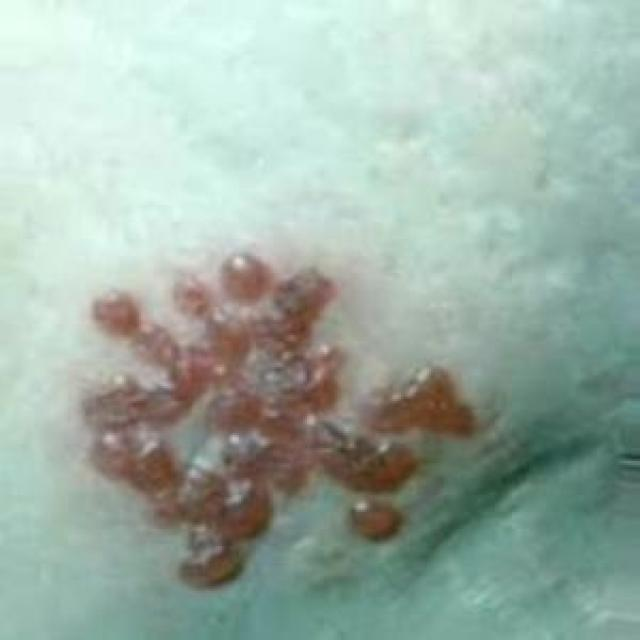Shingles: (82, 249, 473, 589)
